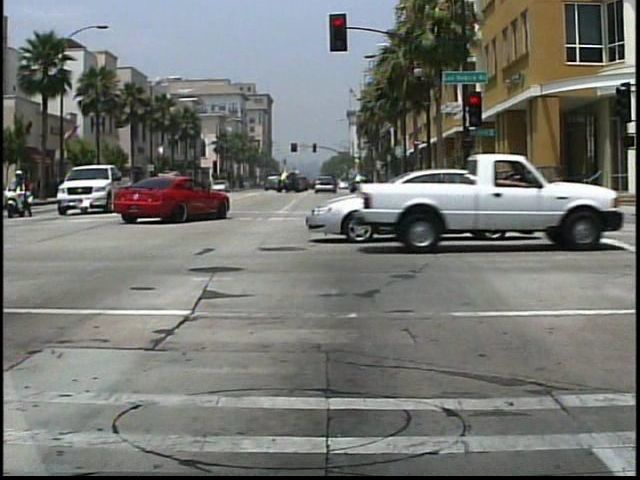person: (3, 167, 34, 221)
